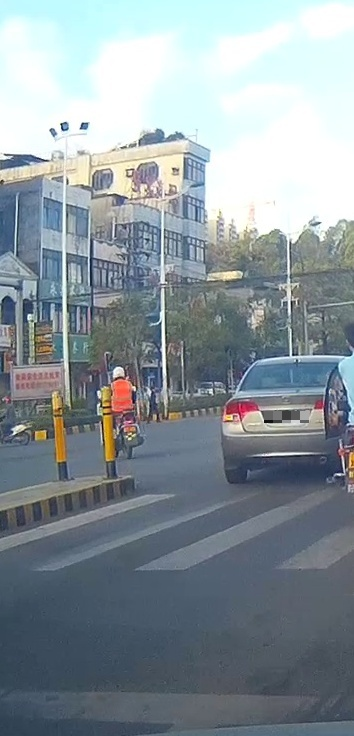L_light: (222, 399, 259, 423)
R_light: (314, 398, 342, 421)
T_light: (284, 363, 306, 371)
day-left: (221, 355, 354, 485)
plate_1: (264, 411, 309, 423)
